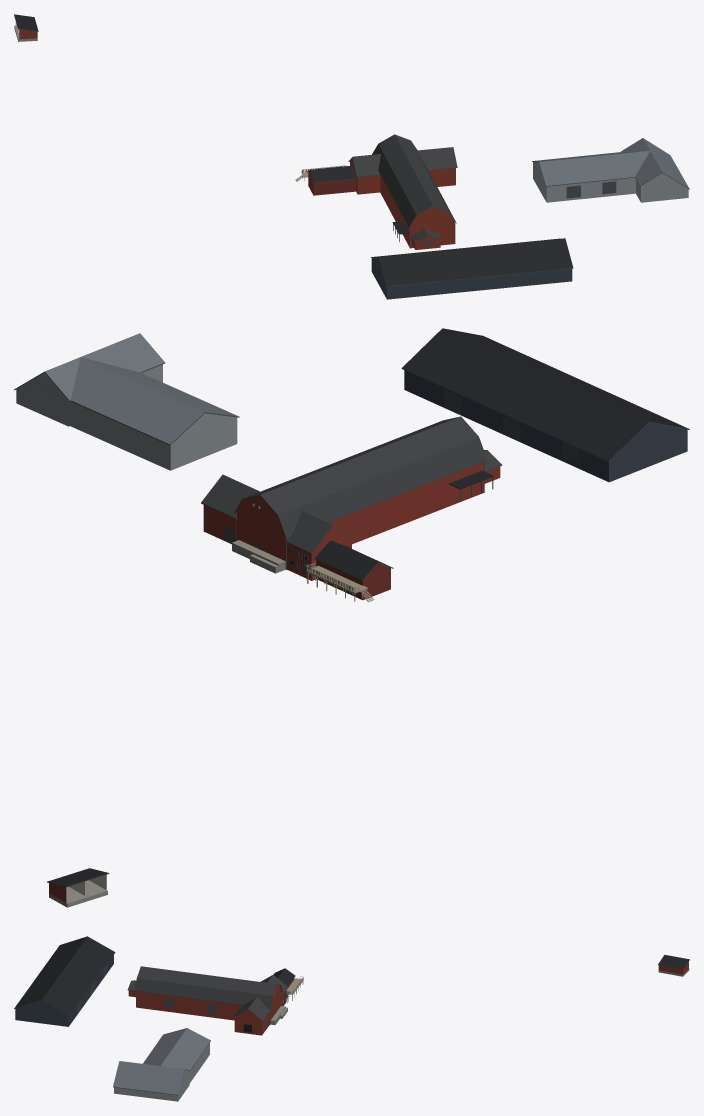
The picture shows the model from 3 angles, top to bottom: view 1: azimuth 30°, elevation 25°; view 2: azimuth 150°, elevation 25°; view 3: azimuth 270°, elevation 25°; orthographic projection. The views are drawn at different scales.
Visible parts, largest first — view 1: Tjusta-MachineHall-roof_black, Tjusta-Clubhouse-roof, Tjusta-GreyHall-sheet_roof, Tjusta-MachineHall-sheet_dark, Tjusta-Clubhouse-falu, Tjusta-GreyHall-sheet_grey, Tjusta-Terrace-falu_shade, Tjusta-Terrace-roof_black, Tjusta-GreyHall-trim, Tjusta-Clubhouse-trim; view 2: Tjusta-MachineHall-roof_black, Tjusta-Clubhouse-roof, Tjusta-GreyHall-sheet_roof, Tjusta-Clubhouse-falu, Tjusta-GreyHall-sheet_grey, Tjusta-MachineHall-sheet_dark, Tjusta-MachineHall-trim, Tjusta-Terrace-roof_black, Tjusta-Clubhouse-trim, Tjusta-Terrace-falu_shade, Tjusta-Terrace-deck; view 3: Tjusta-Clubhouse-roof, Tjusta-MachineHall-roof_black, Tjusta-GreyHall-sheet_roof, Tjusta-Clubhouse-falu, Tjusta-MachineHall-sheet_dark, Tjusta-GreyHall-sheet_grey, Tjusta-Clubhouse-trim, Tjusta-RangeShelter-roof_black.
Part boxes in pixels (<box>): Tjusta-MachineHall-roof_black: <box>374,238,573,286</box>; Tjusta-Clubhouse-roof: <box>349,134,457,241</box>; Tjusta-GreyHall-sheet_roof: <box>532,138,689,188</box>; Tjusta-MachineHall-sheet_dark: <box>371,257,572,299</box>; Tjusta-Clubhouse-falu: <box>350,158,455,249</box>; Tjusta-GreyHall-sheet_grey: <box>533,162,688,202</box>; Tjusta-Terrace-falu_shade: <box>308,171,355,195</box>; Tjusta-Terrace-roof_black: <box>308,165,356,182</box>; Tjusta-GreyHall-trim: <box>532,161,689,198</box>; Tjusta-Clubhouse-trim: <box>348,157,457,247</box>; Tjusta-MachineHall-roof_black: <box>402,328,688,461</box>; Tjusta-Clubhouse-roof: <box>201,416,501,552</box>; Tjusta-GreyHall-sheet_roof: <box>45,333,238,444</box>; Tjusta-Clubhouse-falu: <box>204,462,500,580</box>; Tjusta-GreyHall-sheet_grey: <box>16,364,237,470</box>; Tjusta-MachineHall-sheet_dark: <box>404,370,687,482</box>; Tjusta-MachineHall-trim: <box>401,368,689,464</box>; Tjusta-Terrace-roof_black: <box>315,540,390,579</box>; Tjusta-Clubhouse-trim: <box>201,459,502,580</box>; Tjusta-Terrace-falu_shade: <box>316,560,390,600</box>; Tjusta-Terrace-deck: <box>306,562,374,602</box>; Tjusta-Clubhouse-roof: <box>128,966,287,1020</box>; Tjusta-MachineHall-roof_black: <box>14,936,114,1015</box>; Tjusta-GreyHall-sheet_roof: <box>113,1028,210,1094</box>; Tjusta-Clubhouse-falu: <box>128,985,288,1035</box>; Tjusta-MachineHall-sheet_dark: <box>15,955,113,1026</box>; Tjusta-GreyHall-sheet_grey: <box>114,1043,209,1101</box>; Tjusta-Clubhouse-trim: <box>128,984,288,1034</box>; Tjusta-RangeShelter-roof_black: <box>658,954,689,968</box>.
Size of the model in its own units: 135 by 16.88 by 271.
